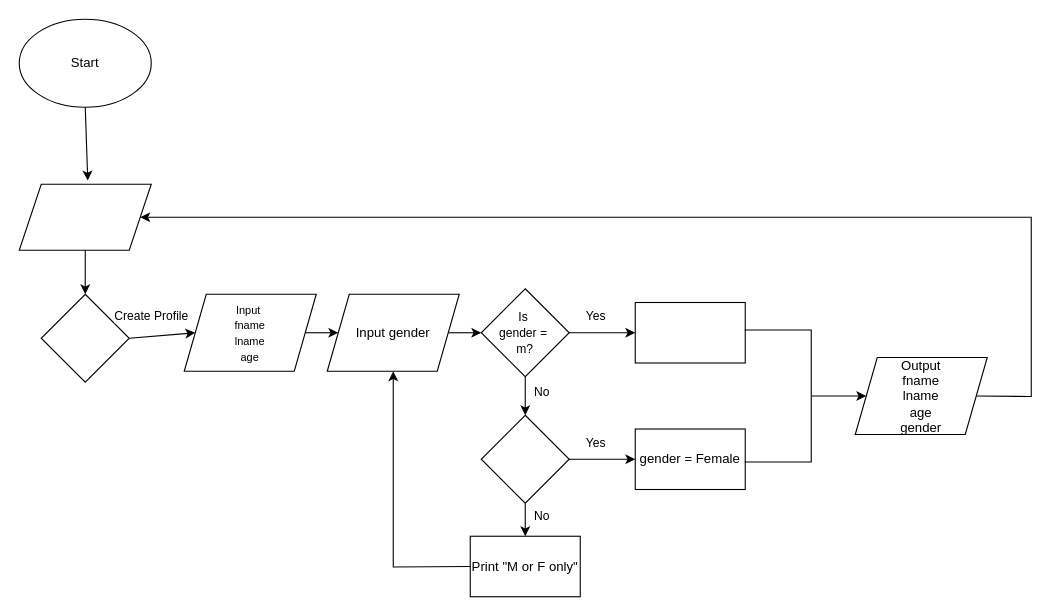
Image size: 1059x616. Some labels were removed from this diagram. Each missing label, with the centre of its shape:
Case 1: point 84,337
gender = Male: point 689,332
Input choice: point 84,216
Is gender = f?: point 524,458
